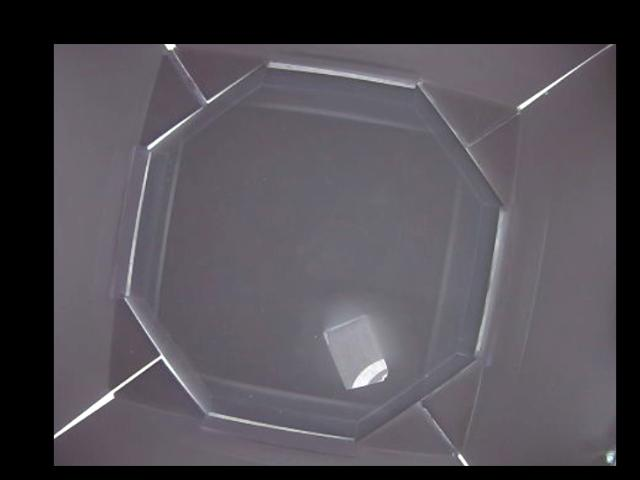China: (325, 315, 388, 387)
